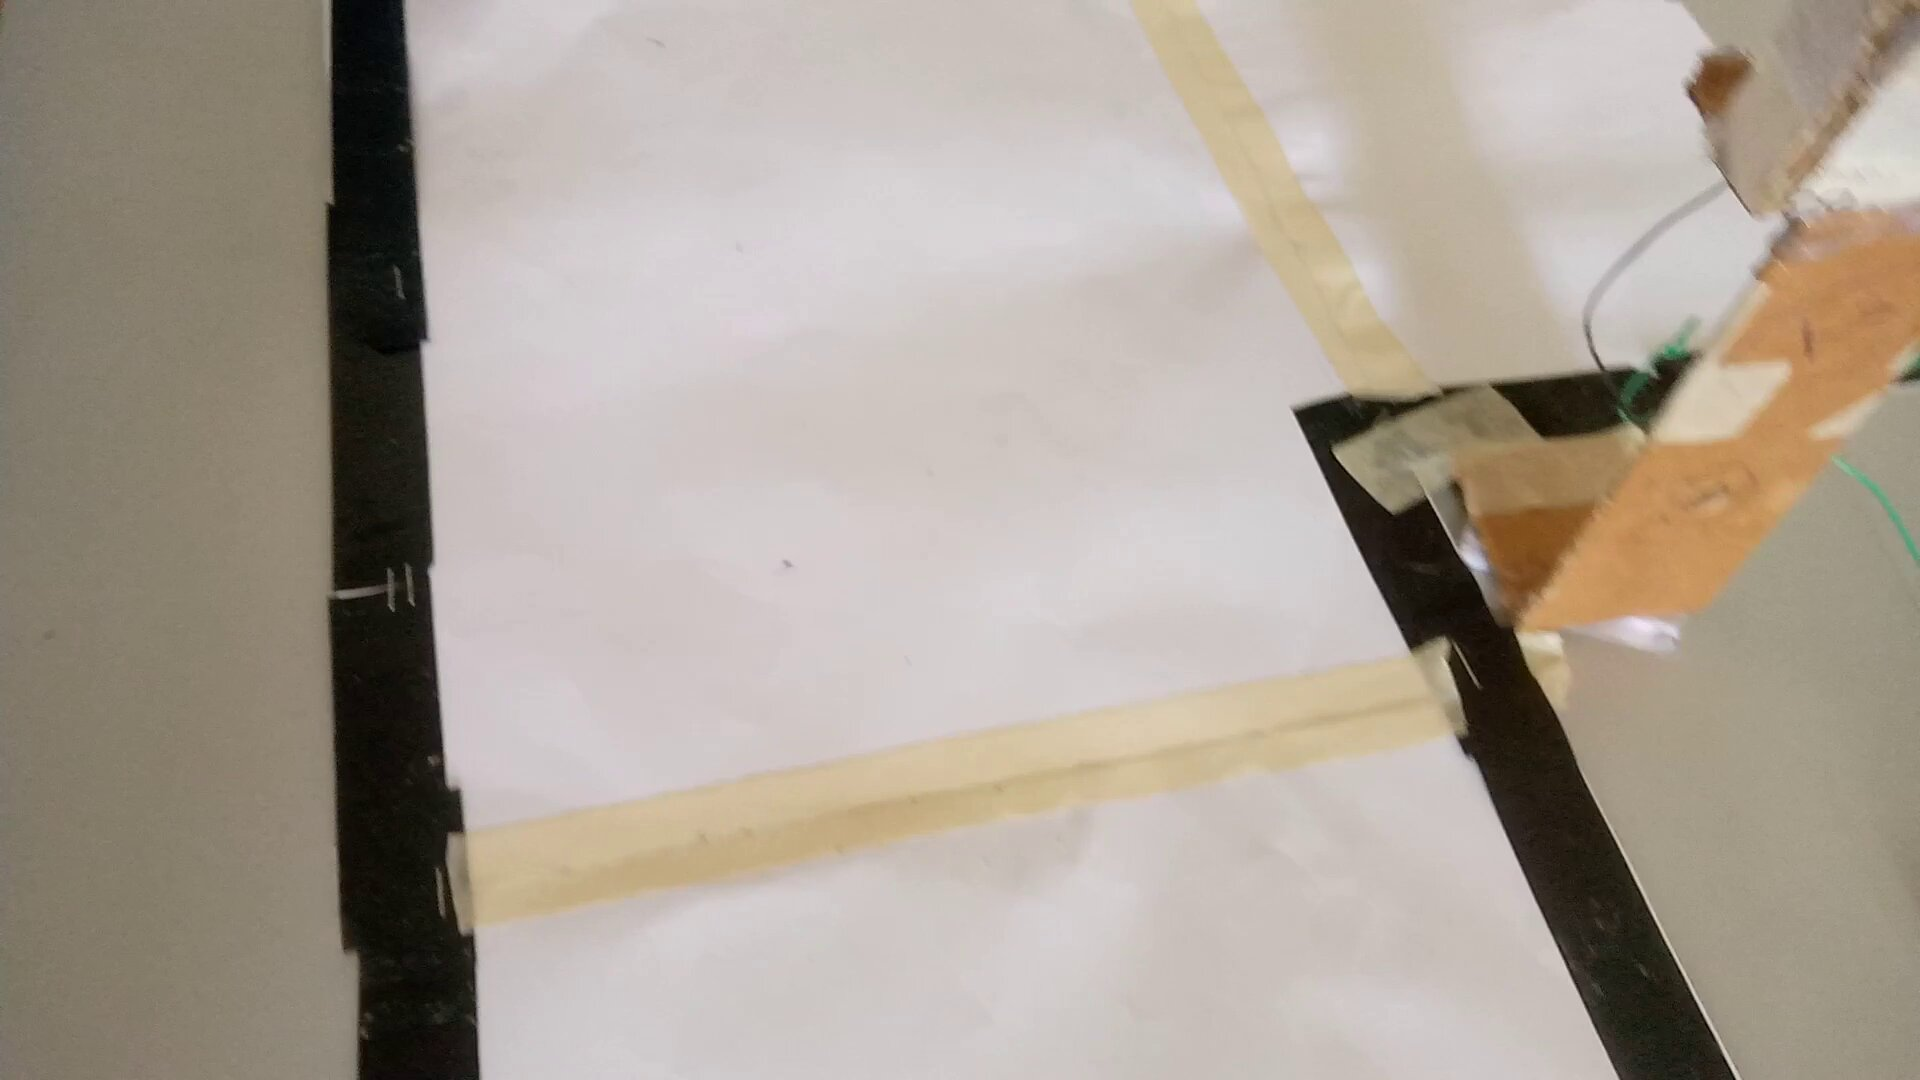right: (284, 1, 1473, 559)
